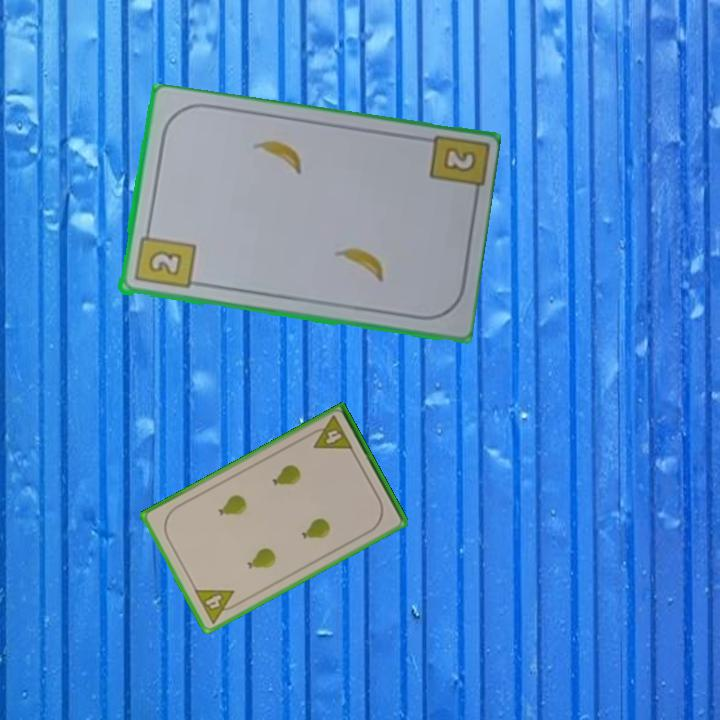2b: (130, 224, 197, 292), (442, 147, 476, 173)
4p: (305, 412, 356, 453), (191, 586, 243, 626)
